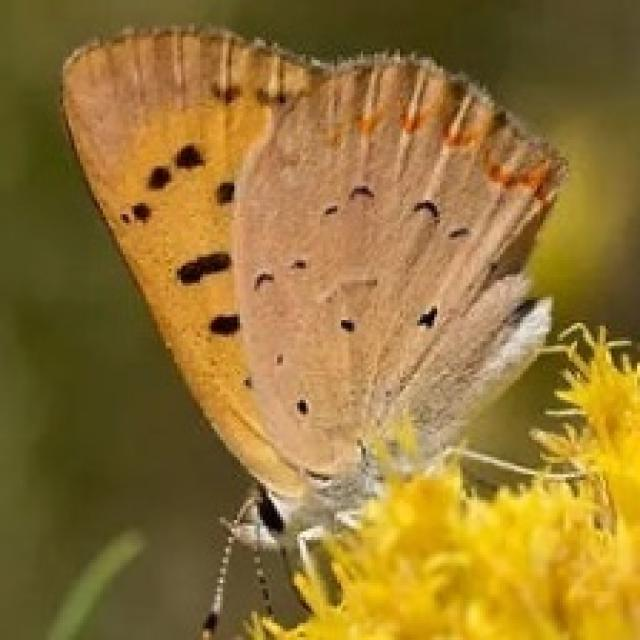butterfly: (54, 20, 589, 637)
